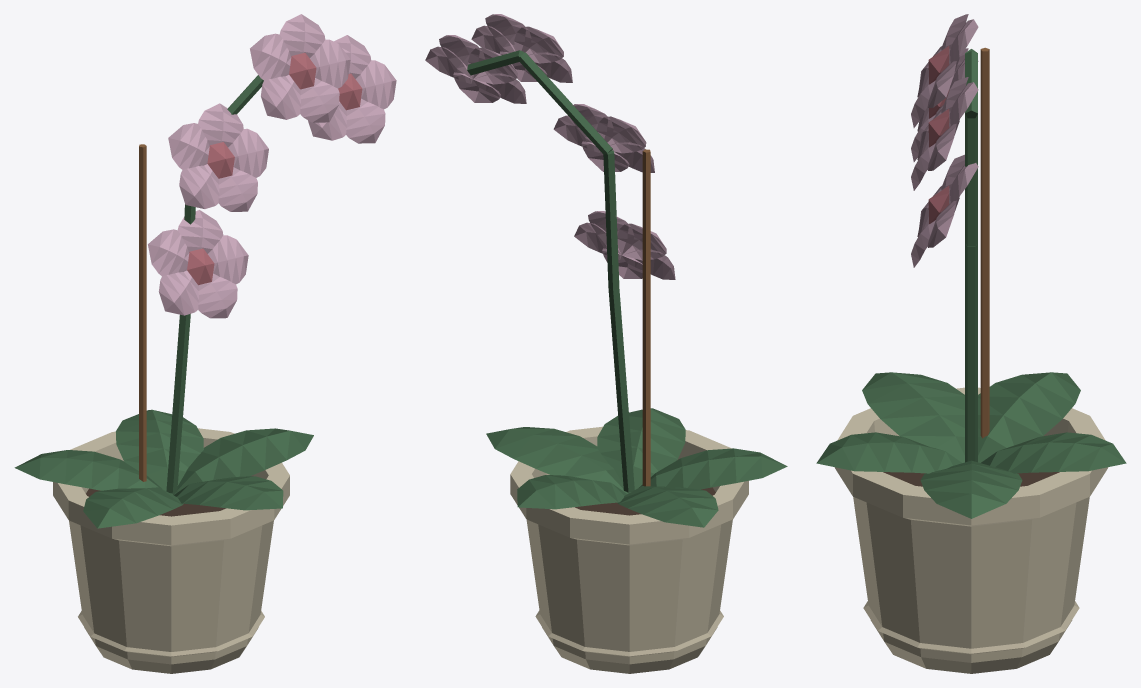
File: decor_pot_orchid.glb
3 views of the same model, side by side, from view 1: azimuth 30°, elevation 25°; view 2: azimuth 150°, elevation 25°; view 3: azimuth 270°, elevation 25° (orthographic). The views are drawn at different scales.
Visible parts, largest first — view 1: geometry; view 2: geometry; view 3: geometry.
Part boxes in pixels (left/top/right/bottom): geometry: left=14, top=14, right=396, bottom=673; geometry: left=425, top=14, right=787, bottom=673; geometry: left=816, top=14, right=1126, bottom=673.
Size of the model in its own units: 0.6465 by 1.11 by 0.4565.
